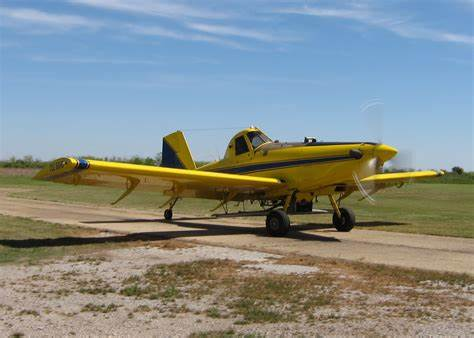Aeronef_de_service: (25, 91, 456, 245)
